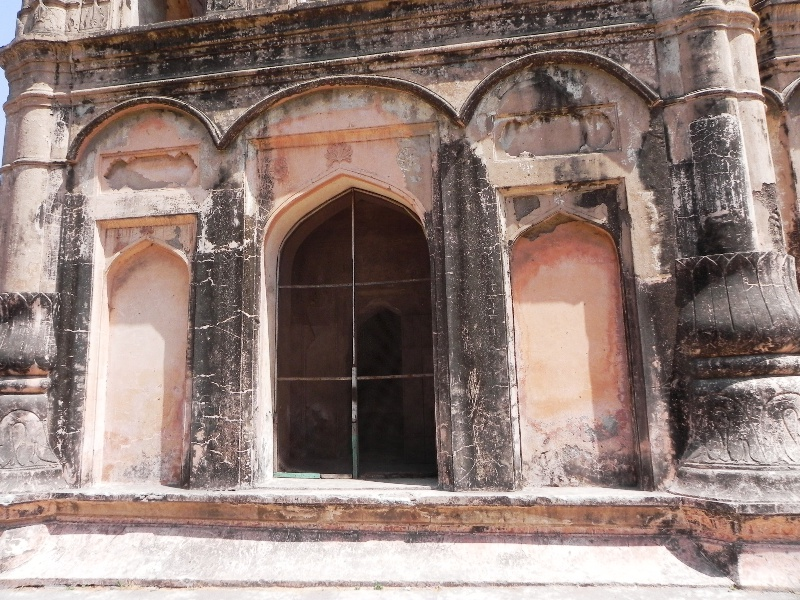Spalling: (506, 192, 544, 218), (523, 225, 562, 242)
